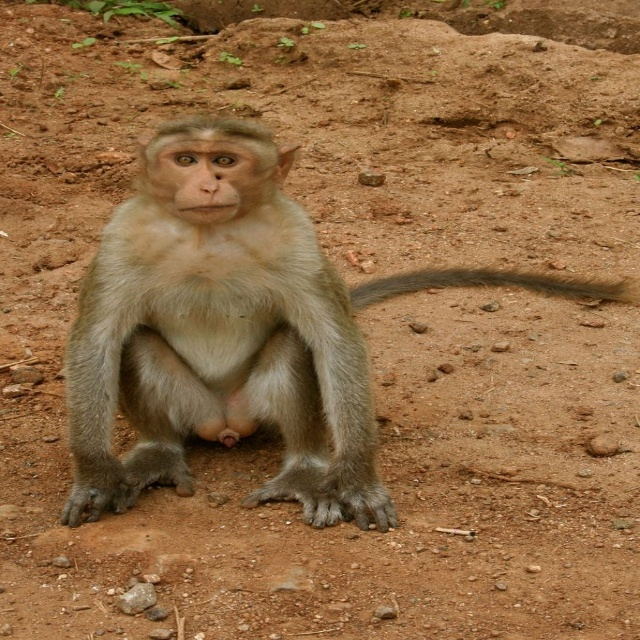Monkey: (59, 119, 400, 534)
